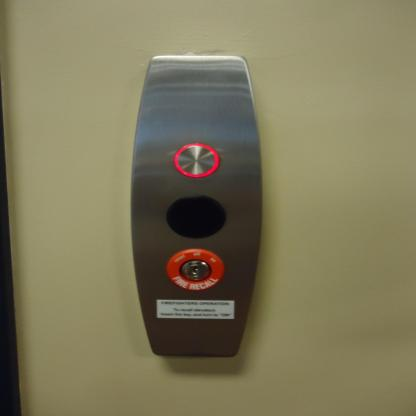empty: (163, 192, 229, 240), (171, 140, 222, 180)
keyhole: (164, 246, 228, 294)
